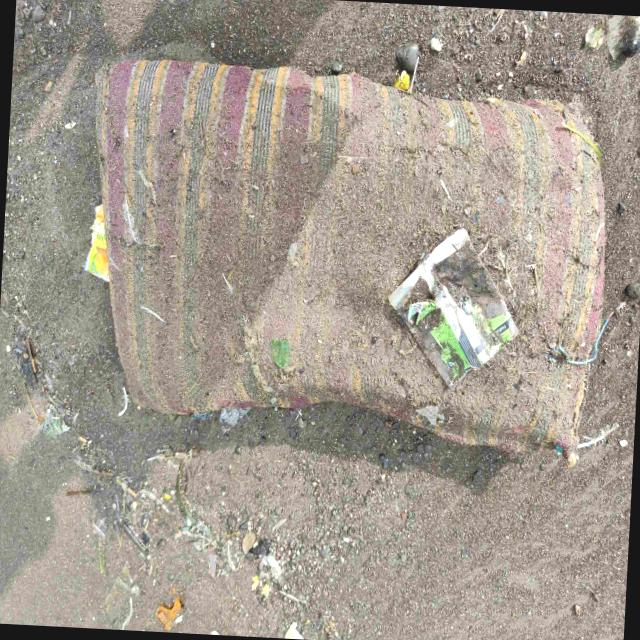giay_goi: (389, 229, 519, 388)
